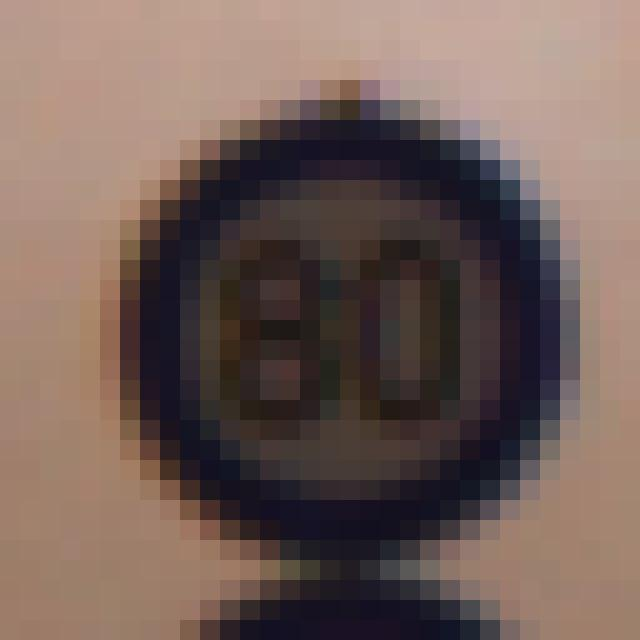SPEED-LIMIT-80: (99, 107, 566, 538)
